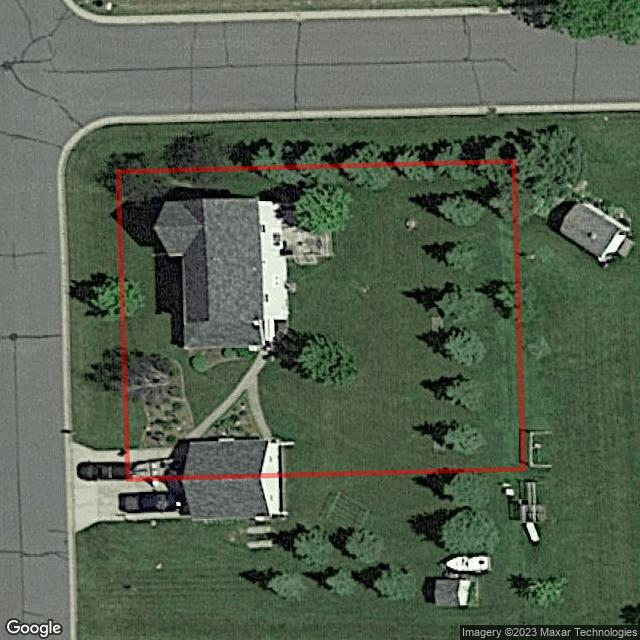Driveway: (130, 446, 185, 481)
Extra Driveway: (73, 439, 129, 480)
Extra Lawn: (65, 118, 512, 451)
House: (154, 198, 289, 349)
Other: (181, 439, 280, 476), (287, 217, 332, 266)
Sidewalk: (186, 348, 271, 438)
